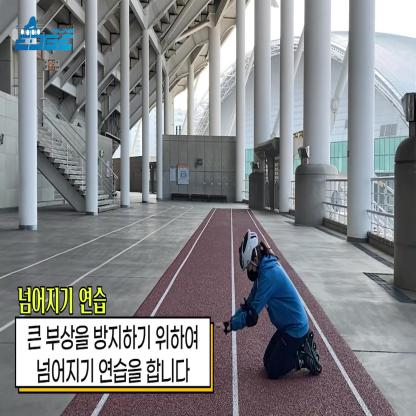Fall_Down: (215, 233, 320, 378)
